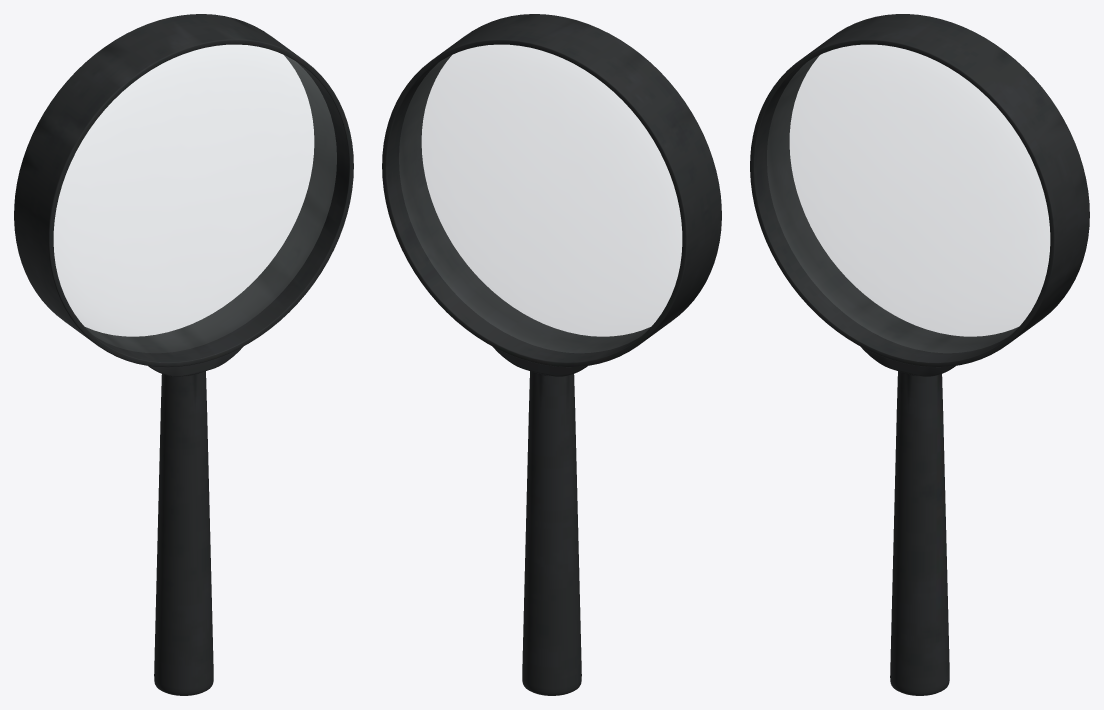
File: design-magnifying-glass-01.glb
3 renders of one model, left to right at view 1: azimuth 30°, elevation 25°; view 2: azimuth 150°, elevation 25°; view 3: azimuth 330°, elevation 25°, orthographic.
Parts seen in each view (by area): view 1: magnifying_glass_01; view 2: magnifying_glass_01; view 3: magnifying_glass_01.
Boxes of the visible parts, x1,y1,x2,y2 form: magnifying_glass_01: (14, 14, 353, 695); magnifying_glass_01: (382, 14, 721, 695); magnifying_glass_01: (750, 14, 1089, 695).
Size of the model in its own units: 0.1321 by 0.2716 by 0.0267.
2 materials, 1 textured.
